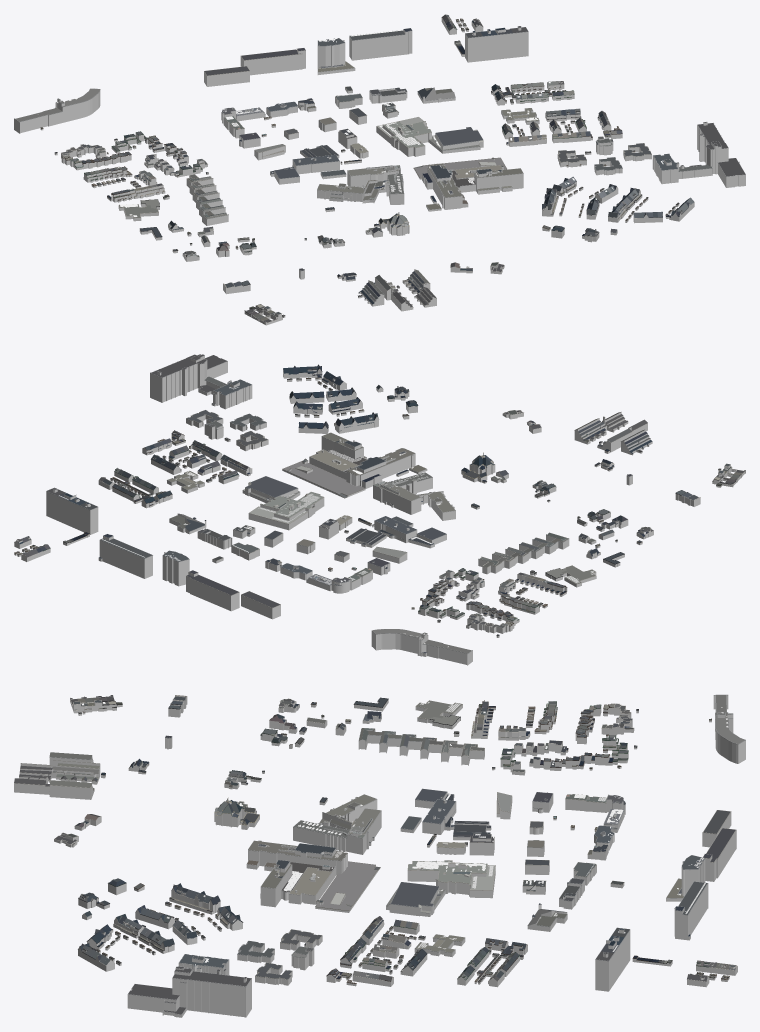
File: context.glb
3 renders of one model, top to bottom at view 1: azimuth 30°, elevation 25°; view 2: azimuth 150°, elevation 25°; view 3: azimuth 270°, elevation 25°, orthographic. The views are drawn at different scales.
Parts seen in each view (by area): view 1: dak, gevel_flat70, rand, gevel_zorg, gevel_huis, gevel_kantoor, gevel_huisnieuw, gevel_modern, zonnepaneel, gevel_schuur, gevel_oud; view 2: dak, gevel_flat70, rand, gevel_zorg, gevel_huis, gevel_kantoor, gevel_huisnieuw, gevel_schuur, gevel_modern, zonnepaneel, gevel_oud; view 3: dak, rand, gevel_flat70, gevel_zorg, gevel_huis, gevel_kantoor, gevel_huisnieuw, gevel_schuur, zonnepaneel, gevel_modern, gevel_oud, gevel_kerk.
Part boxes in pixels (x1,y1,x2,y2): dak: [15, 14, 745, 322]; gevel_flat70: [14, 27, 651, 311]; rand: [14, 14, 745, 322]; gevel_zorg: [317, 40, 745, 211]; gevel_huis: [61, 17, 622, 274]; gevel_kantoor: [118, 87, 539, 279]; gevel_huisnieuw: [139, 112, 694, 325]; gevel_modern: [140, 128, 617, 235]; zonnepaneel: [38, 28, 676, 314]; gevel_schuur: [40, 19, 679, 317]; gevel_oud: [182, 229, 564, 281]; dak: [15, 354, 744, 653]; gevel_flat70: [46, 412, 652, 665]; rand: [14, 354, 745, 654]; gevel_zorg: [150, 355, 455, 586]; gevel_huis: [14, 412, 567, 633]; gevel_kantoor: [167, 473, 632, 593]; gevel_huisnieuw: [151, 368, 745, 567]; gevel_schuur: [14, 378, 722, 637]; gevel_modern: [211, 387, 563, 581]; zonnepaneel: [59, 382, 727, 646]; gevel_oud: [406, 402, 653, 539]; dak: [14, 695, 744, 1014]; rand: [14, 694, 745, 1014]; gevel_flat70: [14, 695, 745, 991]; gevel_zorg: [127, 798, 705, 1017]; gevel_huis: [54, 702, 737, 987]; gevel_kantoor: [165, 705, 625, 957]; gevel_huisnieuw: [70, 695, 427, 976]; gevel_schuur: [78, 703, 729, 986]; zonnepaneel: [82, 702, 728, 971]; gevel_modern: [82, 717, 491, 974]; gevel_oud: [108, 700, 327, 895]; gevel_kerk: [214, 798, 259, 829].
Bounding box in the file's own units: 693 × 35.67 × 673.
